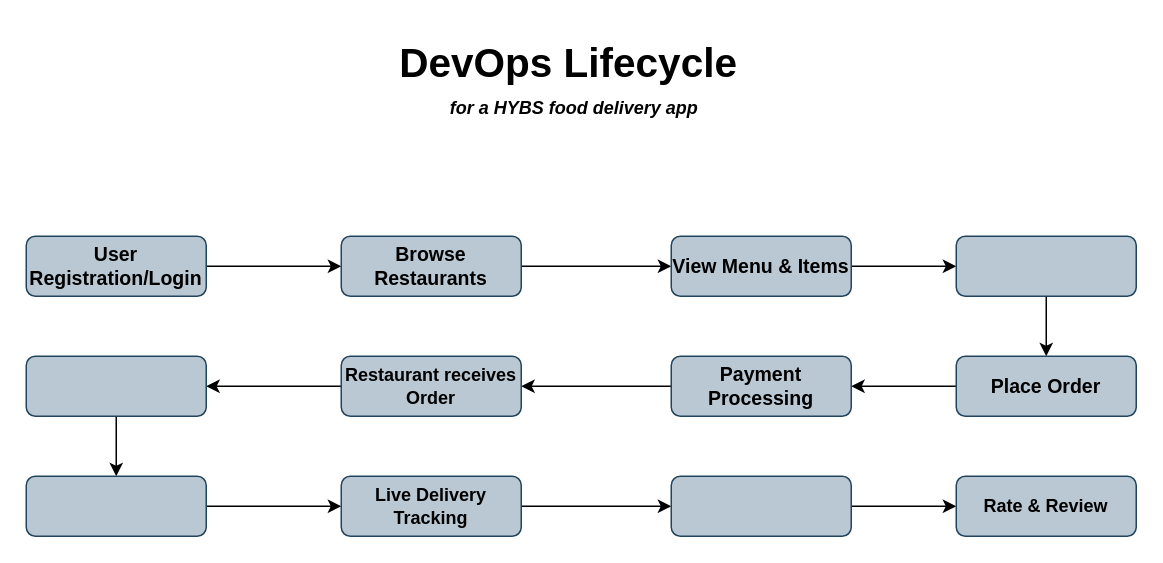
Image size: 1163x563. Some labels were removed from this diagram. The box of each missing label's shape, as (x1, y1, x2, y2) in pixels:
Add to Cart: (955, 235, 1136, 296)
Delivdery Partner Picks up: (25, 475, 206, 536)
Order Delivered: (670, 475, 851, 536)
Order Preparation: (25, 355, 206, 416)
